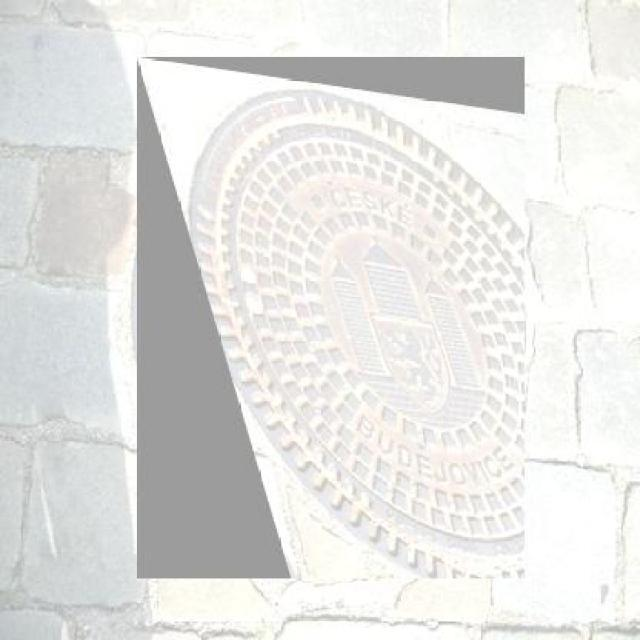Manhole: (138, 56, 526, 578)
